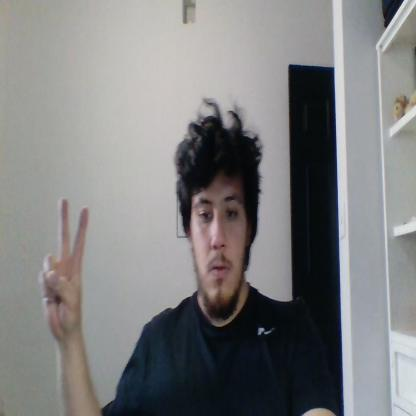V: (38, 196, 90, 338)
